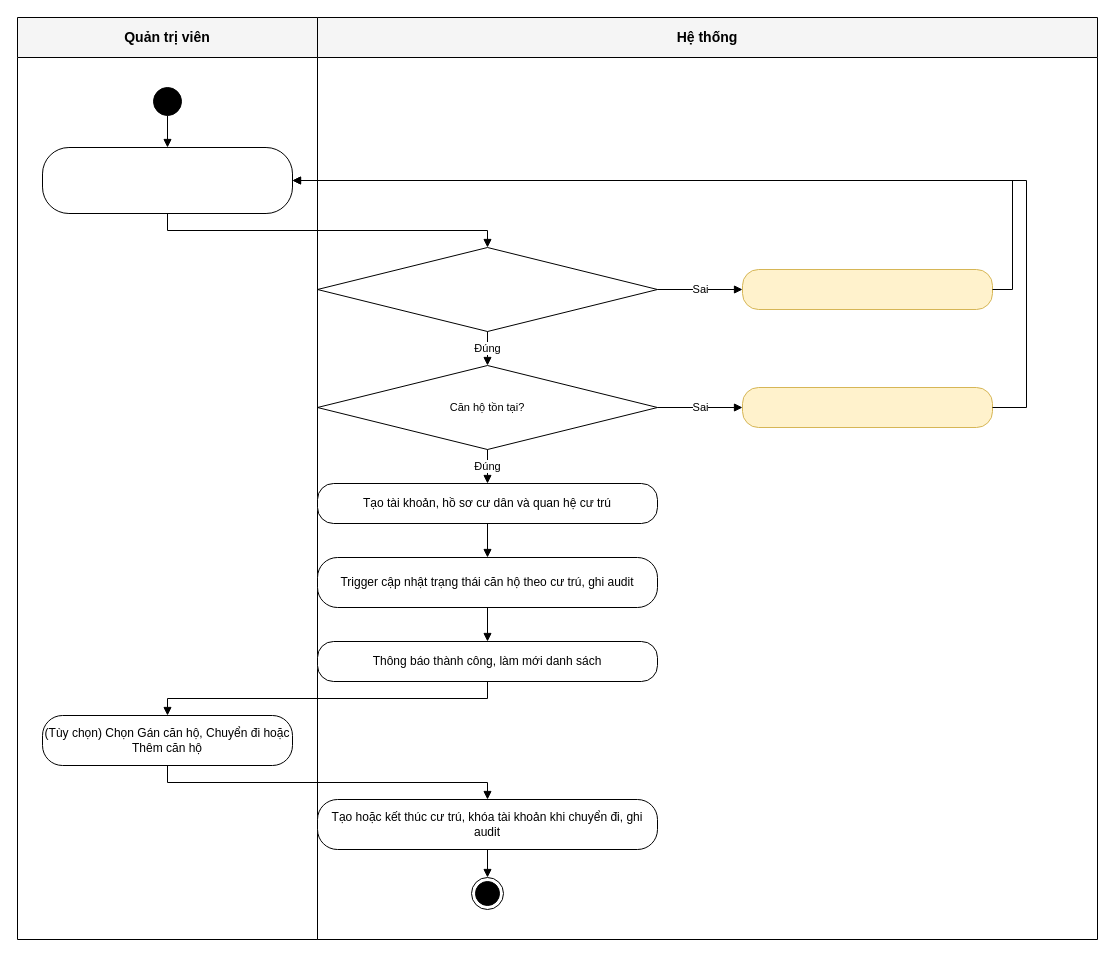
Image size: 1115x957. Some labels were removed from this diagram. The box of each missing label's shape, as (x1, y1, x2, y2) in pixels:
Báo lỗi, không tạo cư dân: (742, 268, 992, 310)
Báo lỗi; cần “Thêm căn hộ” trước: (742, 386, 992, 428)
Chọn tab “Cư dân”, nhập thông tin cư dân và số căn hộ, bấm “Thêm cư dân”: (42, 146, 292, 214)
Dữ liệu hợp lệ, kênh APP/SMS/EMAIL?: (316, 246, 658, 332)
